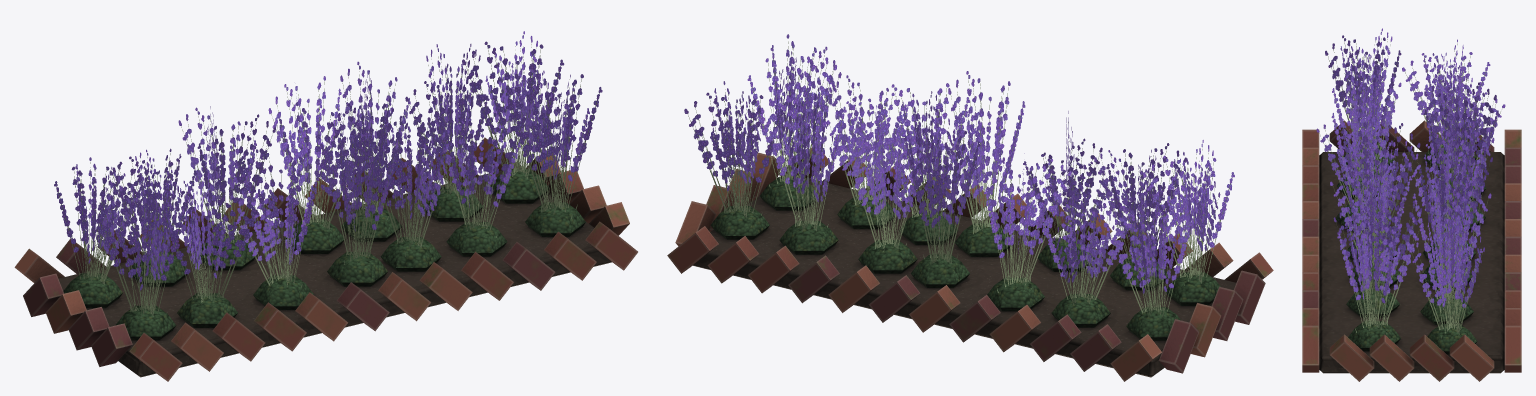
The model's file is LavenderBed.fbx.
3 views of the same model, side by side, from view 1: azimuth 30°, elevation 25°; view 2: azimuth 150°, elevation 25°; view 3: azimuth 270°, elevation 25° (orthographic). The views are drawn at different scales.
Visible parts, largest first — view 1: LavenderBed_Main, LavenderBed_Leaves; view 2: LavenderBed_Main, LavenderBed_Leaves; view 3: LavenderBed_Main, LavenderBed_Leaves.
Boxes of the visible parts, box(x1,y1,x2,y2) form: LavenderBed_Main: box(14, 137, 637, 381); LavenderBed_Leaves: box(54, 31, 602, 321); LavenderBed_Main: box(667, 147, 1273, 381); LavenderBed_Leaves: box(684, 34, 1234, 323); LavenderBed_Main: box(1302, 120, 1521, 381); LavenderBed_Leaves: box(1316, 28, 1505, 338).
Size of the model in its own units: 634 by 225 by 260.
